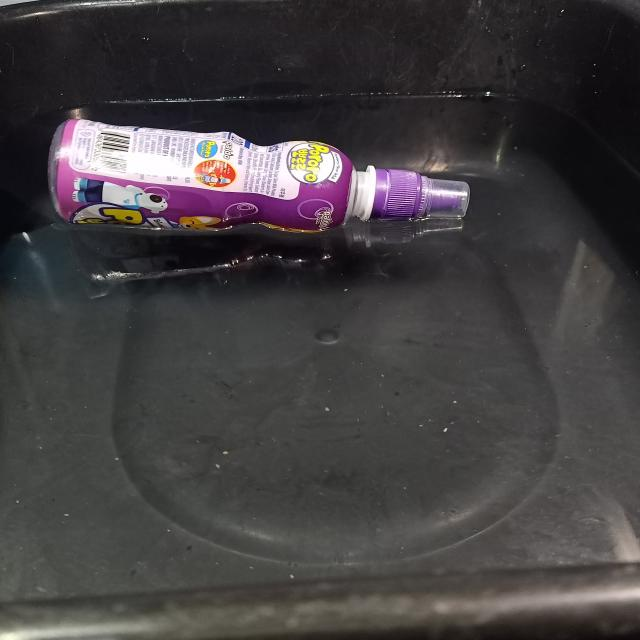Plastic Bottle: (48, 119, 469, 236)
